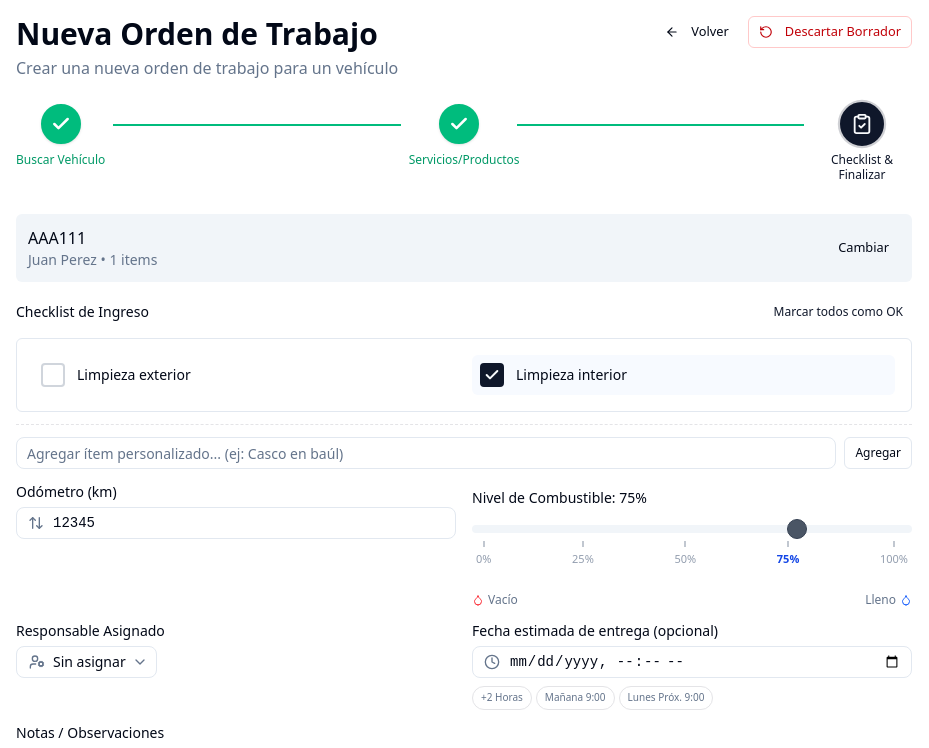
Scenario: NewWorkOrderPage - Dynamic Checklist & Custom Items › should handle bulk toggling with 'Marcar todos como OK' and 'Desmarcar todos'
expect the text "Checklist de Ingreso" is shown: met, box [16, 305, 149, 319]
expect the checkbox labelled "Limpieza exterior" is not checked: met, box [41, 363, 191, 387]
// Bulk toggle OK
Click the button "Marcar todos como OK". click: [838, 312]
box: [765, 298, 912, 326]
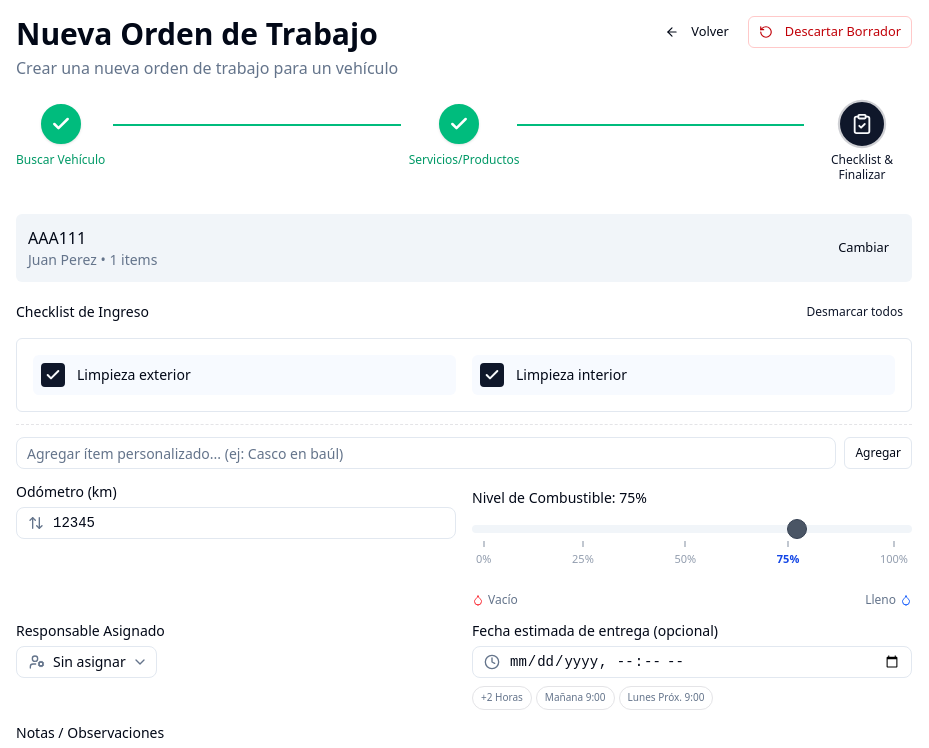
expect the checkbox labelled "Limpieza interior" is checked: met, box [480, 363, 627, 387]
expect the checkbox labelled "Limpieza exterior" is checked: met, box [41, 363, 191, 387]
expect the button "Desmarcar todos" is shown: met
// Bulk toggle off
Click the button "Desmarcar todos". click: [855, 312]
box: [798, 298, 912, 326]
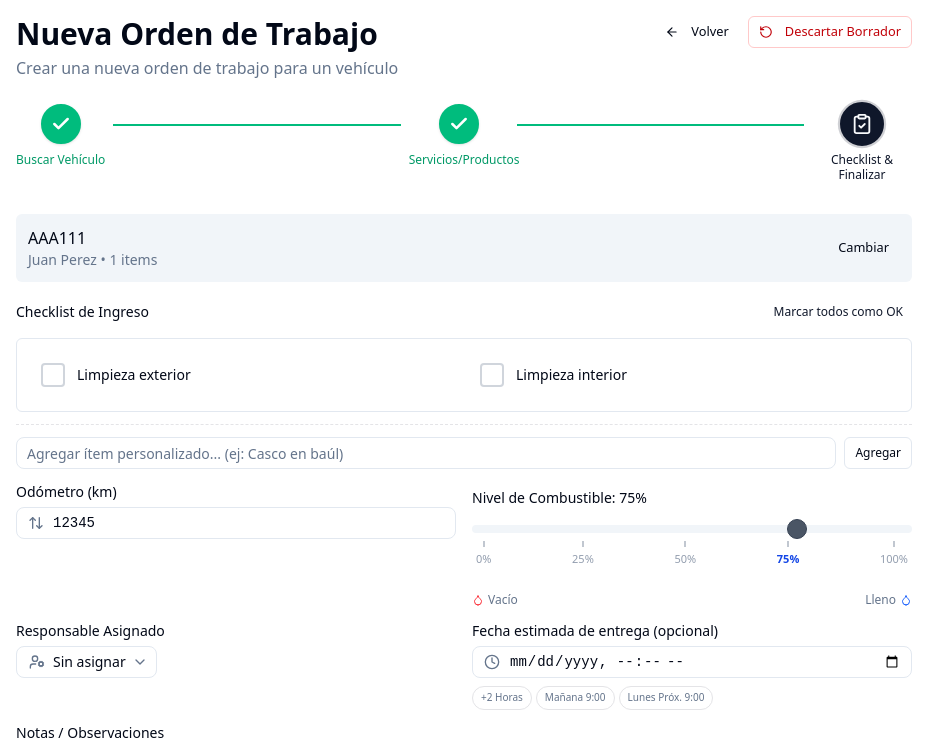
expect the checkbox labelled "Limpieza interior" is not checked: met, box [480, 363, 627, 387]
expect the checkbox labelled "Limpieza exterior" is not checked: met, box [41, 363, 191, 387]
